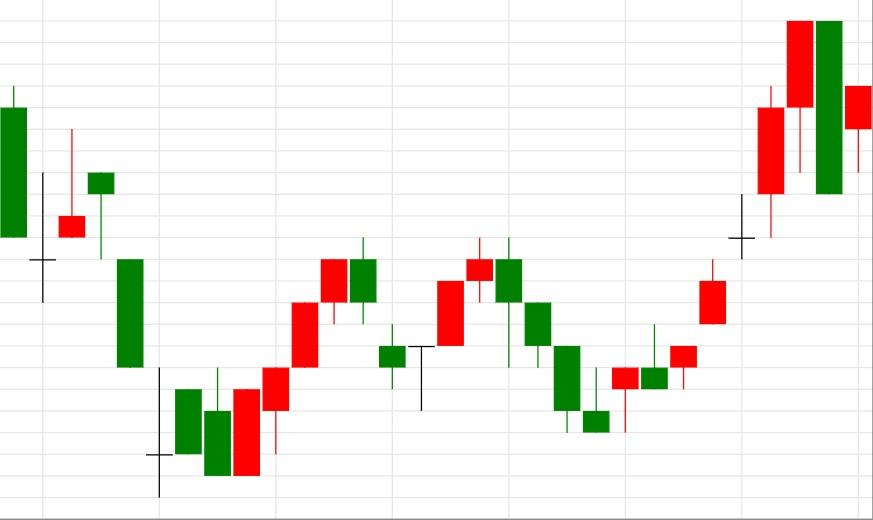bearish_engulfing_fall: (582, 20, 843, 434), (379, 238, 523, 411)
hanging_man_fall: (28, 128, 115, 303)
inverse_hammer_rise: (465, 238, 611, 434)
three_black_crows_fall: (379, 238, 581, 433)
